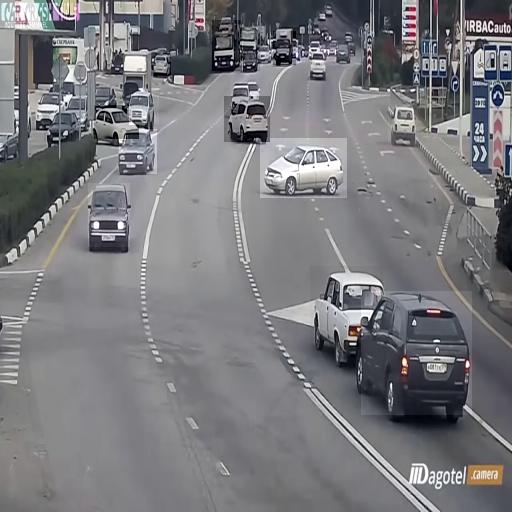小汽车: (361, 291, 472, 415), (310, 266, 383, 358), (260, 138, 347, 198), (88, 183, 130, 247), (224, 96, 270, 142), (119, 129, 157, 174), (212, 20, 242, 71), (94, 105, 139, 139), (388, 100, 418, 146), (129, 88, 159, 125), (44, 110, 76, 142), (35, 85, 58, 128), (273, 32, 296, 66), (309, 50, 328, 80), (243, 39, 260, 71), (151, 53, 171, 76), (334, 40, 350, 61)
